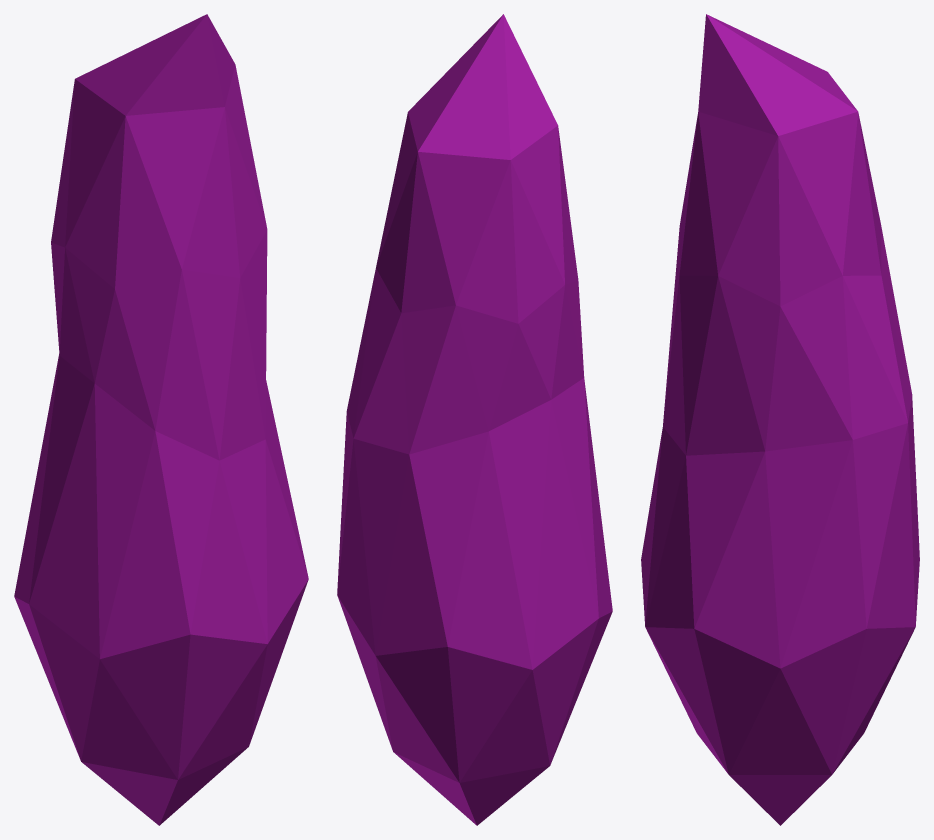
Rendered from Crystal_Enemy.fbx.
The picture shows the model from 3 angles, left to right: view 1: azimuth 30°, elevation 25°; view 2: azimuth 150°, elevation 25°; view 3: azimuth 270°, elevation 25°; orthographic projection. The views are drawn at different scales.
Parts seen in each view (by area): view 1: Icosphere; view 2: Icosphere; view 3: Icosphere.
Boxes of the visible parts, box(x1,y1,x2,y2) form: Icosphere: box(14, 14, 308, 825); Icosphere: box(337, 14, 612, 825); Icosphere: box(641, 14, 919, 825).
Bounding box in the file's own units: 134 × 417 × 129.
